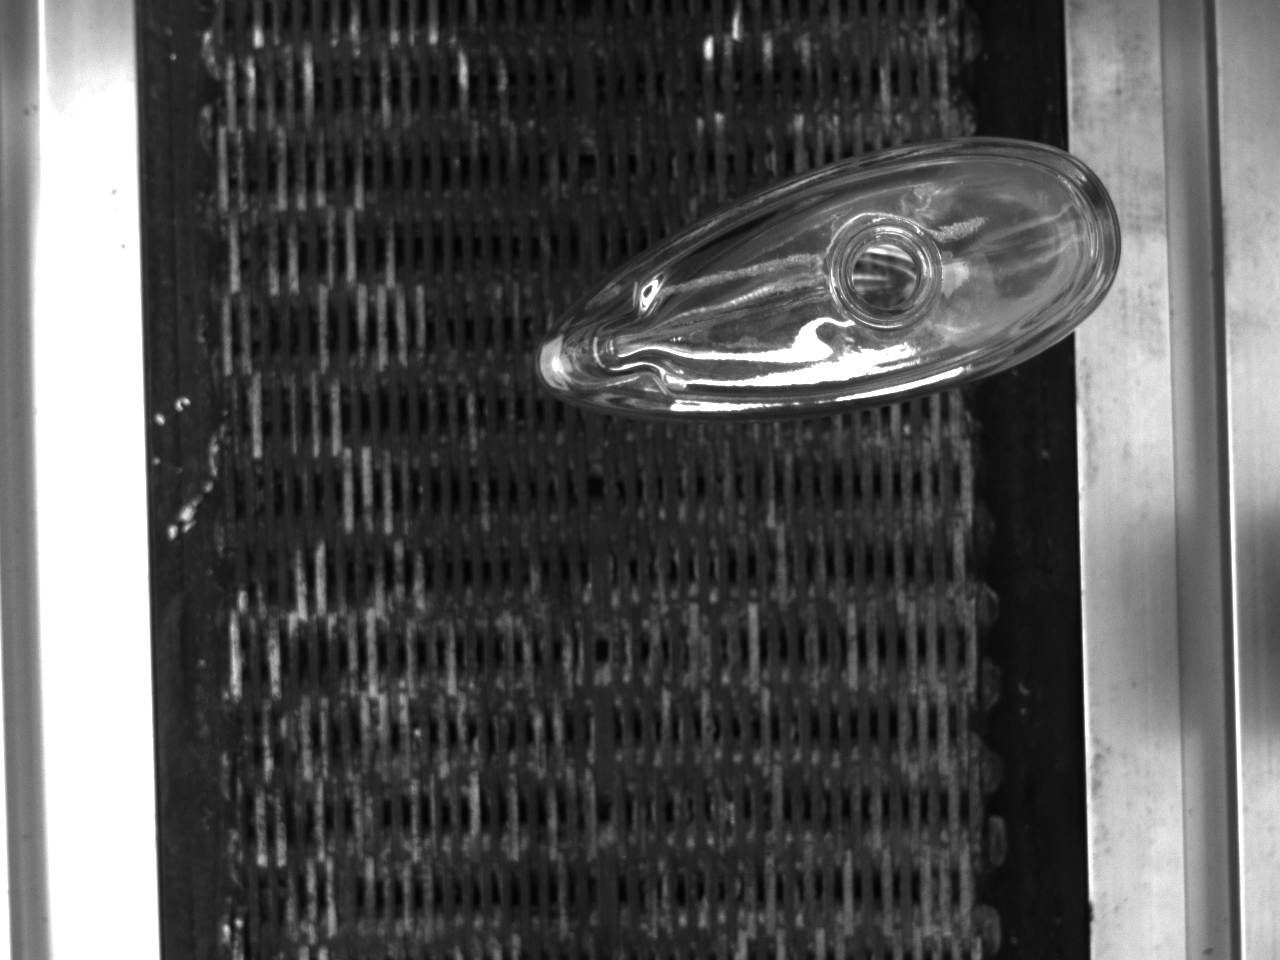bottleneck: (828, 218, 946, 329)
